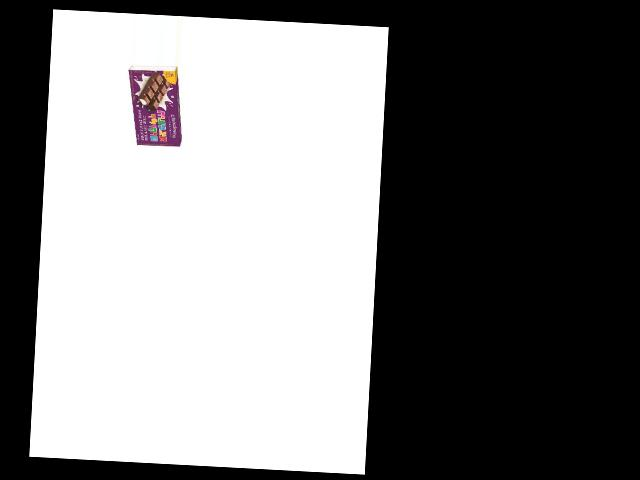chocolate: (128, 63, 185, 153)
